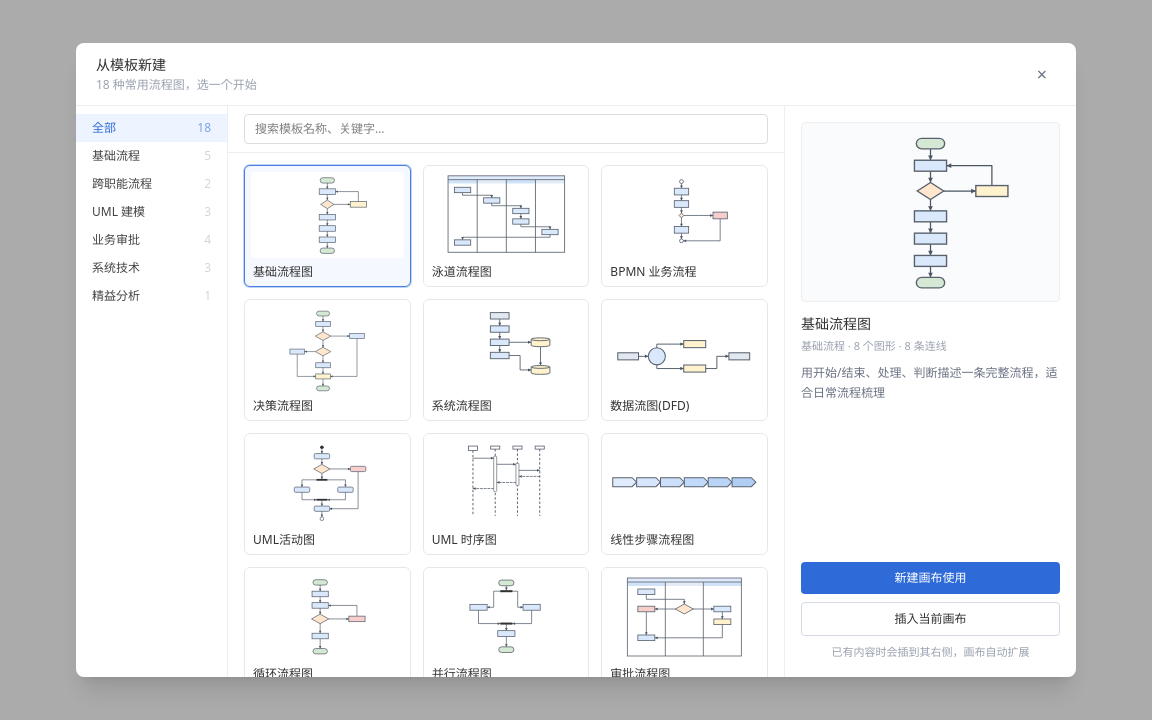
Test: TemplatePickerDialog › 分类筛选与搜索
This screenshot has width=1152, height=720.
Click the button "系统技术 3" at (152, 268), box left=76, top=254, right=227, bottom=282
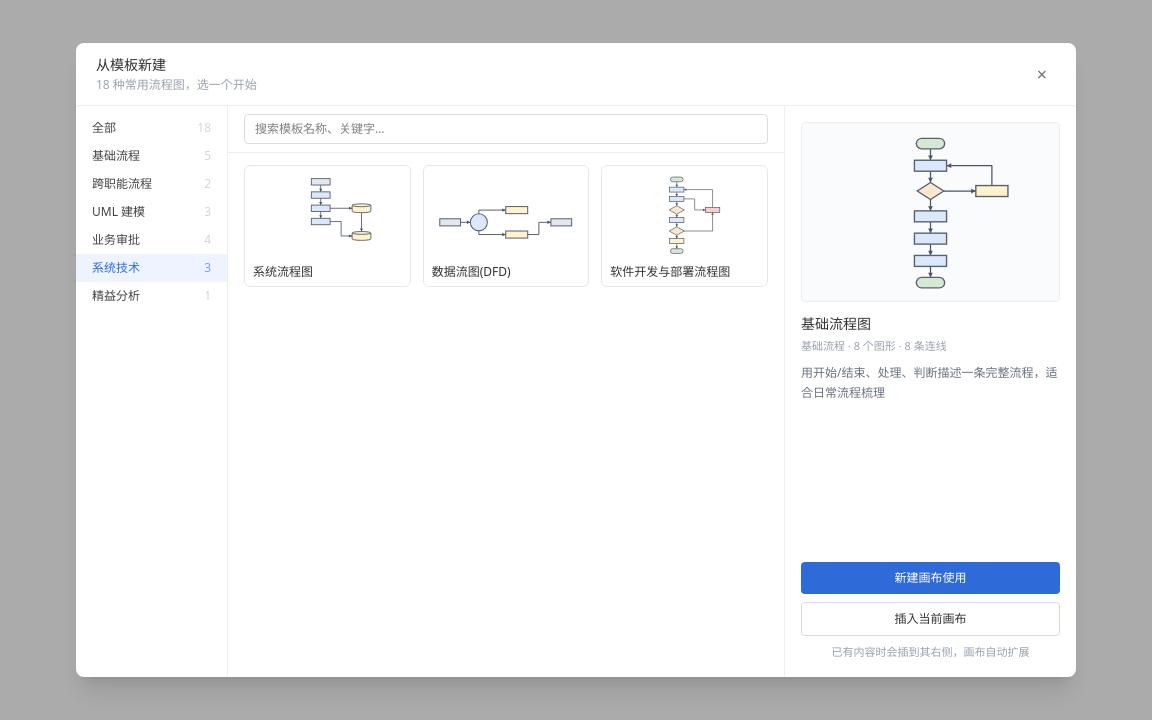
Type "BPMN" into the field labelled "搜索模板" at (506, 129), box left=244, top=114, right=768, bottom=144
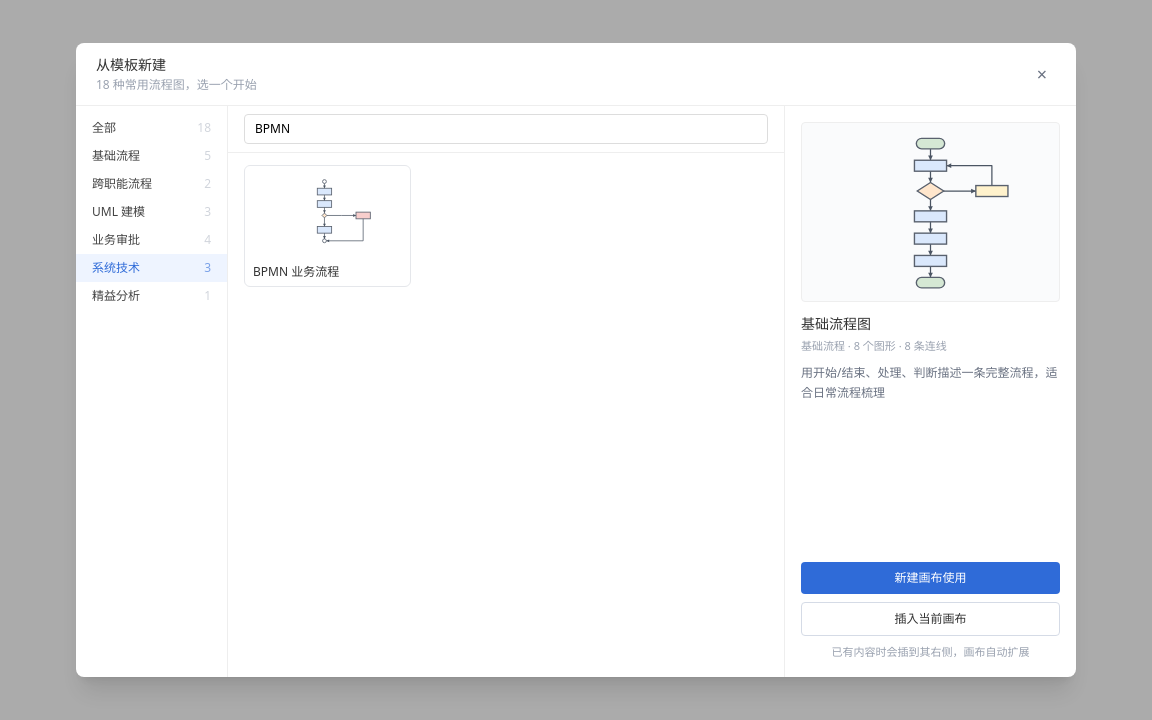
Check: the text "BPMN 业务流程" is shown, box left=253, top=263, right=339, bottom=280
Replace the text in the field named "搜索模板" with "不存在的模板" at (506, 129), box left=244, top=114, right=768, bottom=144
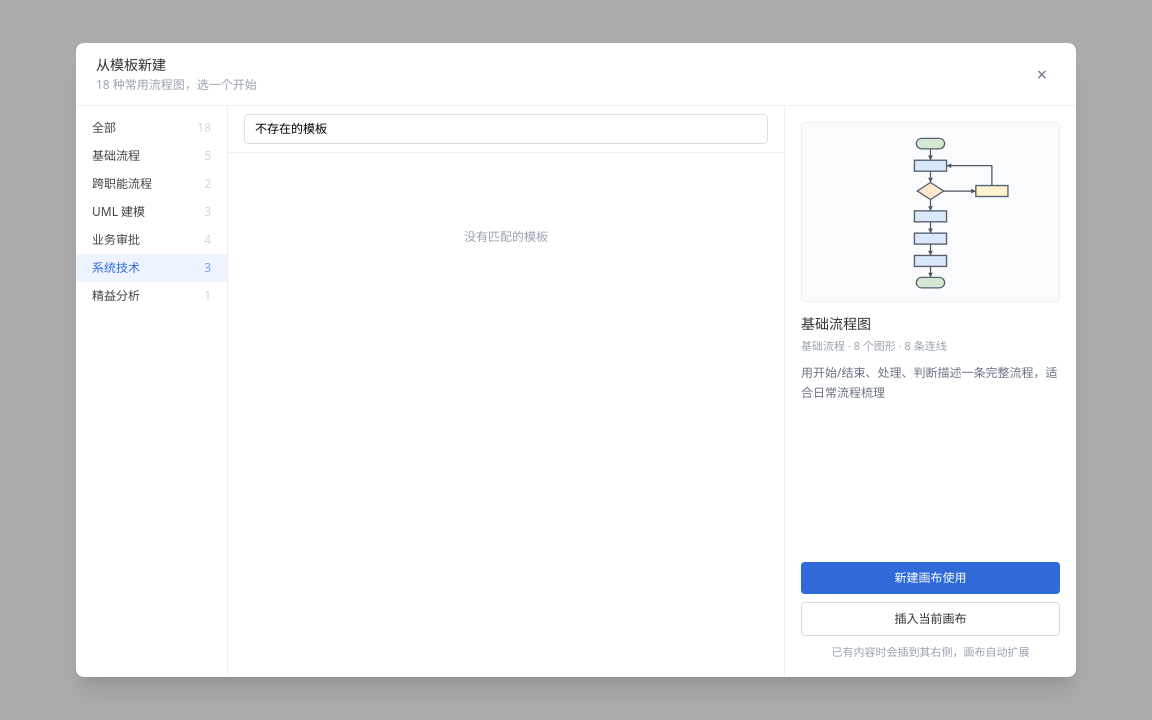
Check: the text "没有匹配的模板" is shown, box left=464, top=228, right=548, bottom=245
